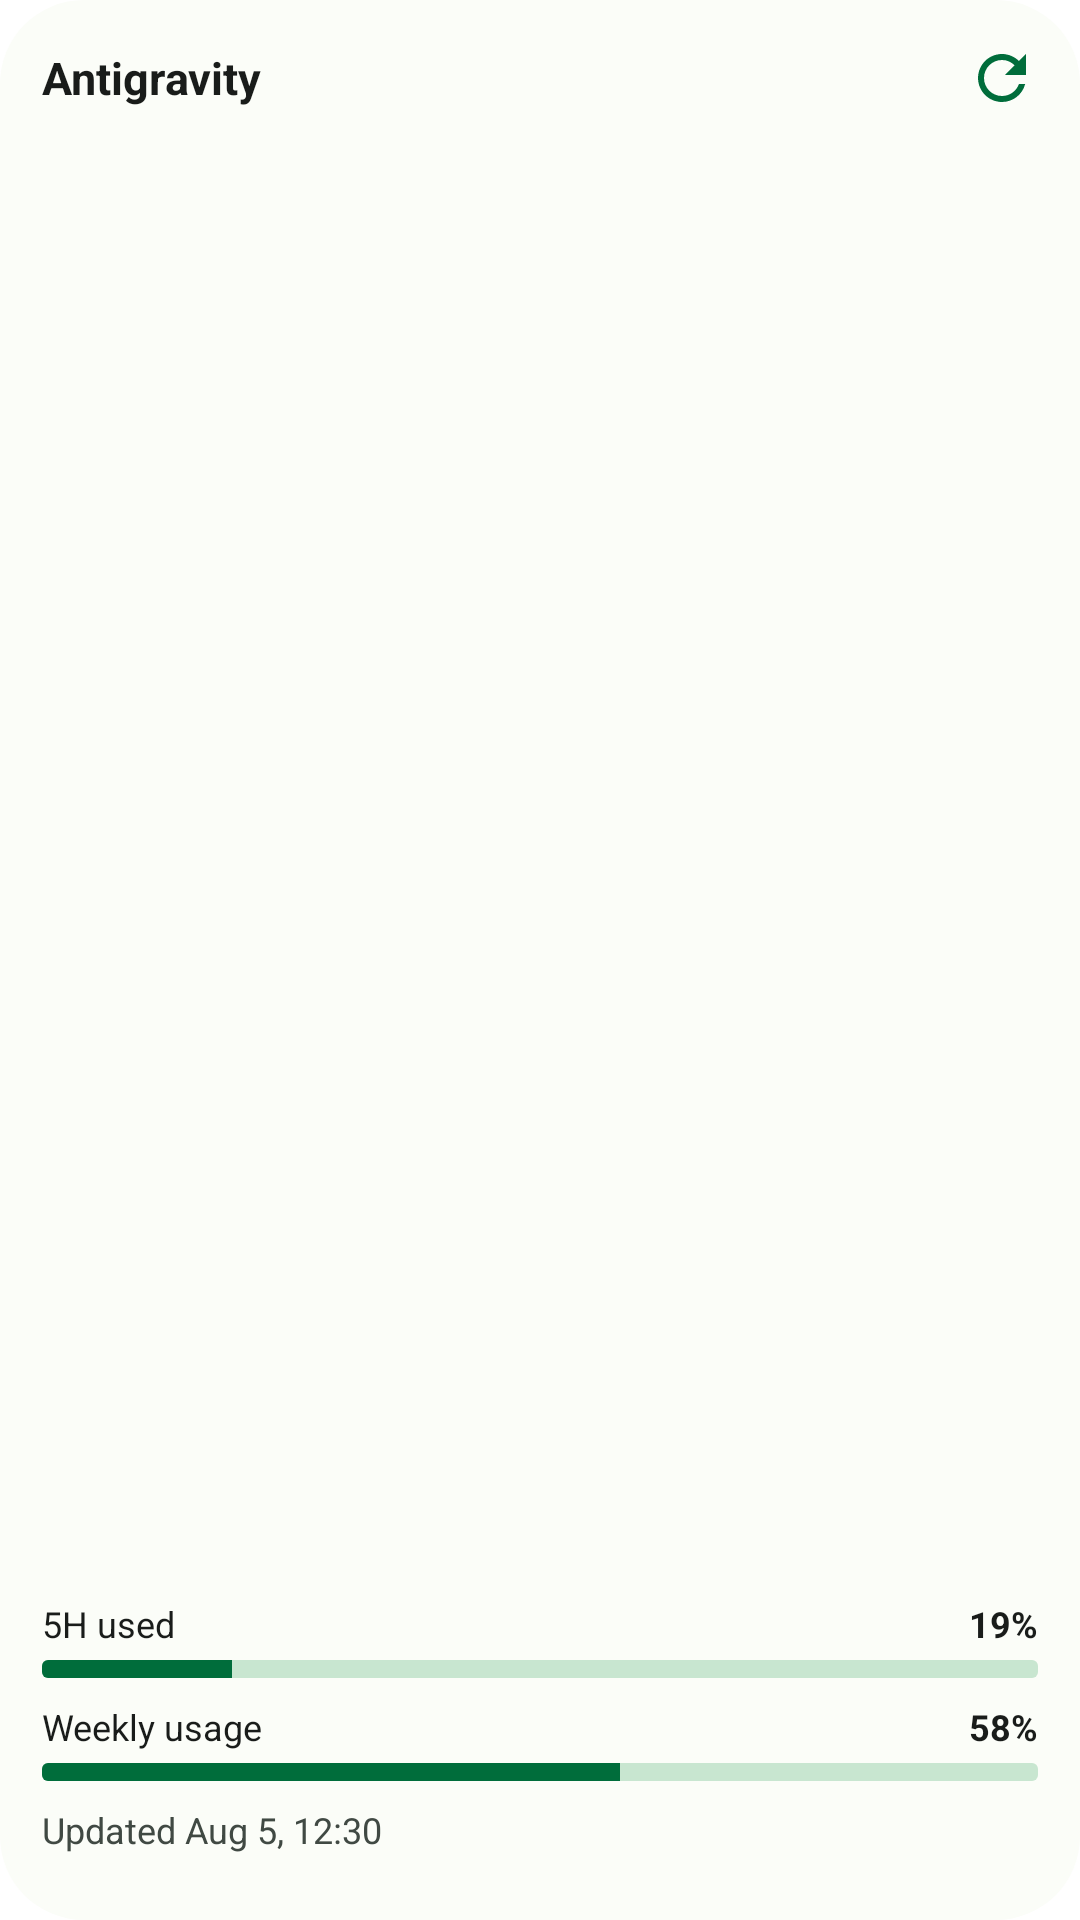

Icons on this 1080*1920 Android screen, each with its box as (x1, y1, x2, y2):
refresh: (978, 54, 1026, 102)
